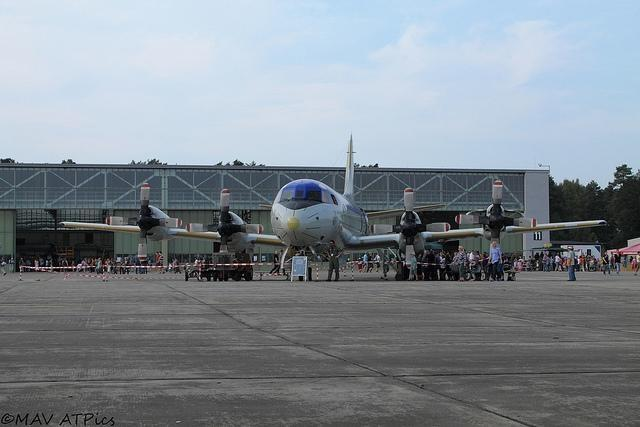truck: (212, 252, 252, 281)
